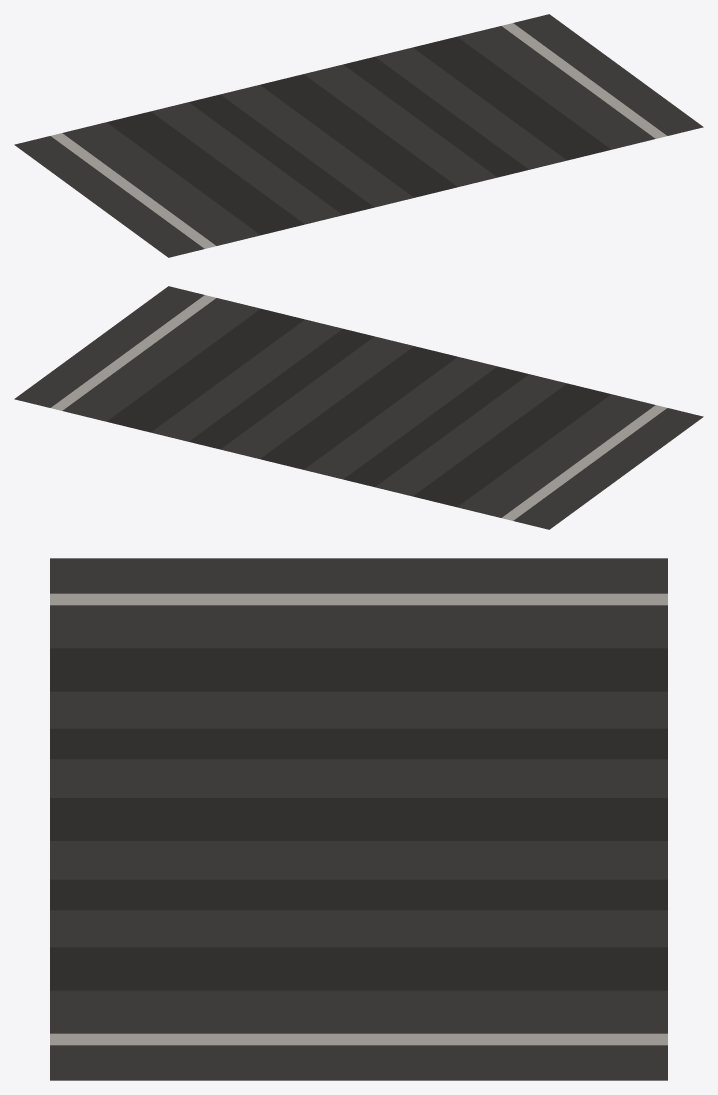
Rendered from Road_Straight.fbx.
The picture shows the model from 3 angles, top to bottom: view 1: azimuth 30°, elevation 25°; view 2: azimuth 150°, elevation 25°; view 3: azimuth 270°, elevation 25°; orthographic projection. The views are drawn at different scales.
Visible parts, largest first — view 1: Road_Straight; view 2: Road_Straight; view 3: Road_Straight.
Part boxes in pixels (<box>): Road_Straight: <box>14,14,703,257</box>; Road_Straight: <box>14,286,703,529</box>; Road_Straight: <box>50,558,667,1080</box>.
Size of the model in its own units: 20 by 1.63e-06 by 10.
